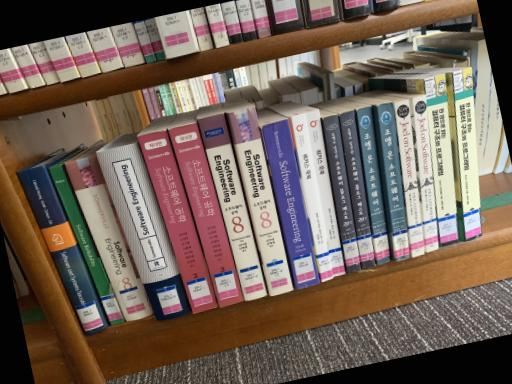book-spine: (98, 142, 192, 321), (16, 165, 107, 335), (65, 155, 153, 323), (138, 130, 218, 314), (168, 122, 244, 308), (198, 113, 268, 301), (229, 107, 293, 296), (49, 165, 124, 325), (261, 118, 320, 290), (292, 114, 333, 283), (305, 109, 346, 277), (424, 73, 460, 248), (323, 114, 362, 273), (339, 110, 376, 269), (357, 106, 391, 266), (452, 67, 482, 242), (377, 102, 410, 261), (395, 99, 425, 258), (413, 95, 438, 254)
